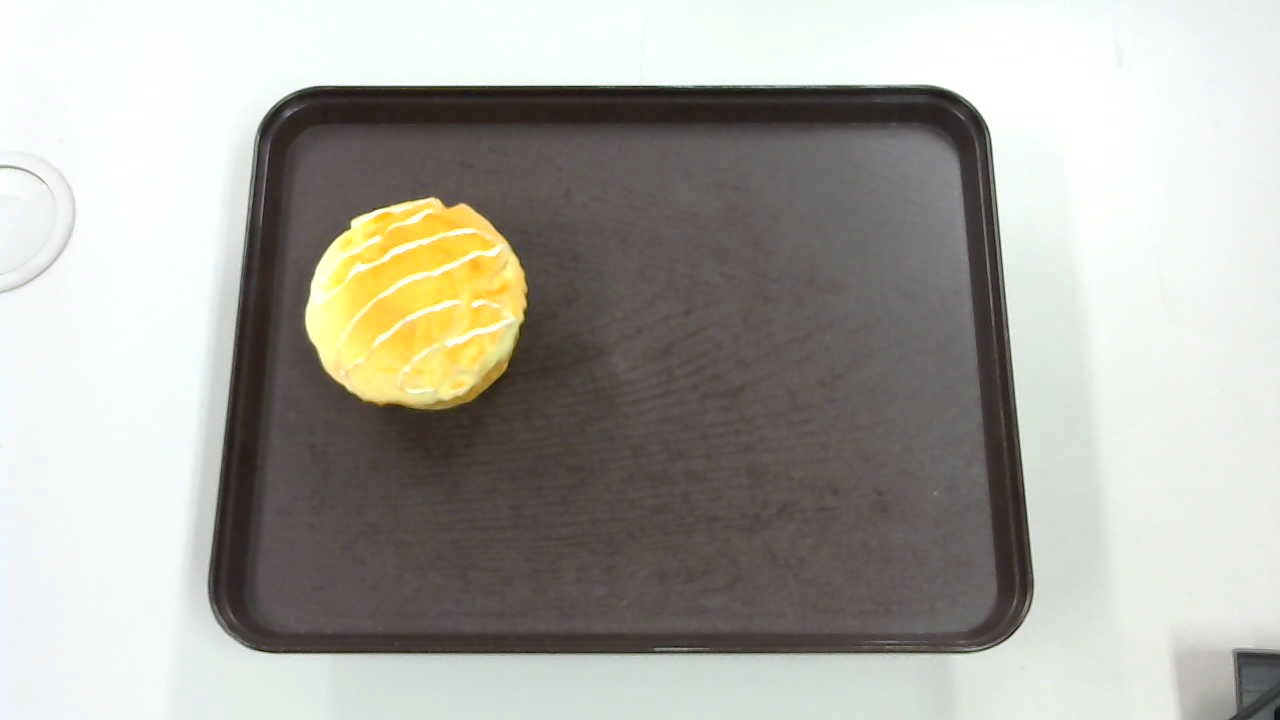cupcake: (304, 198, 527, 411)
